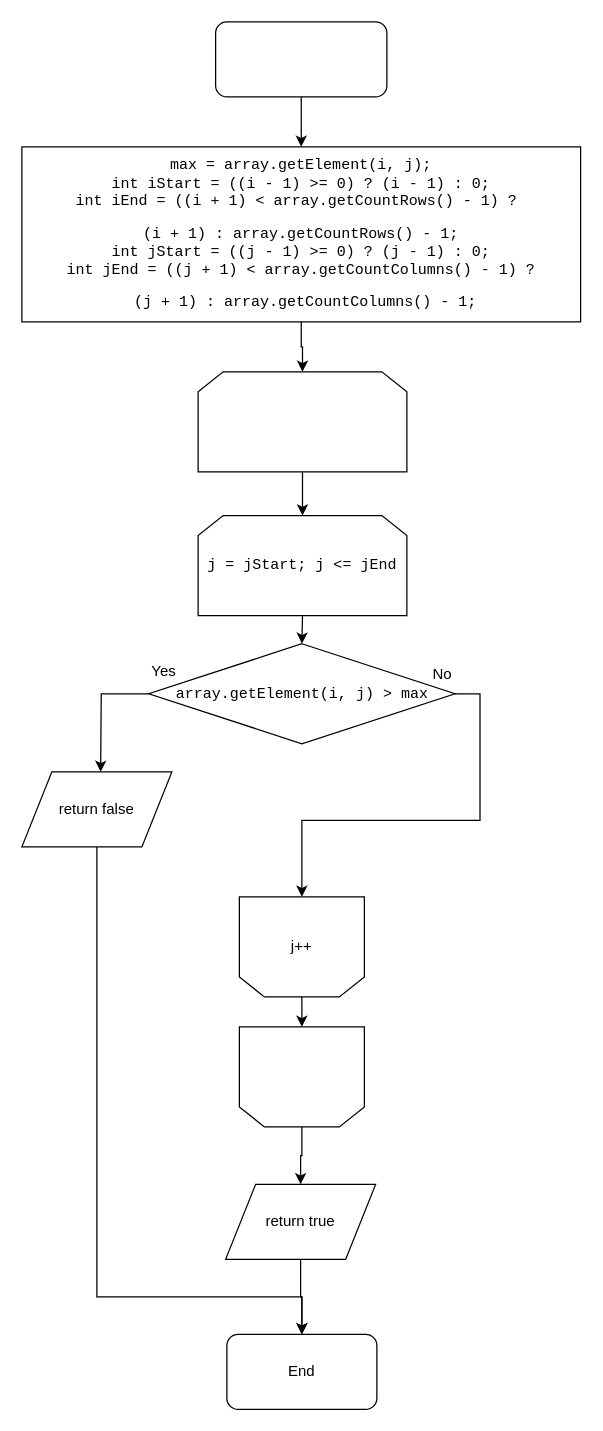
Image size: 603x1431. Some labels were removed from this diagram. The shapes that lost their labels are listed below. From the top down, each one's box as (x1, y1, x2, y2) in pixels, then its label:
(214, 21, 387, 97): findLocalMax( matrix, i, j)
(197, 371, 407, 472): i = iStart ; i <= iEnd
(238, 1026, 364, 1127): i++
